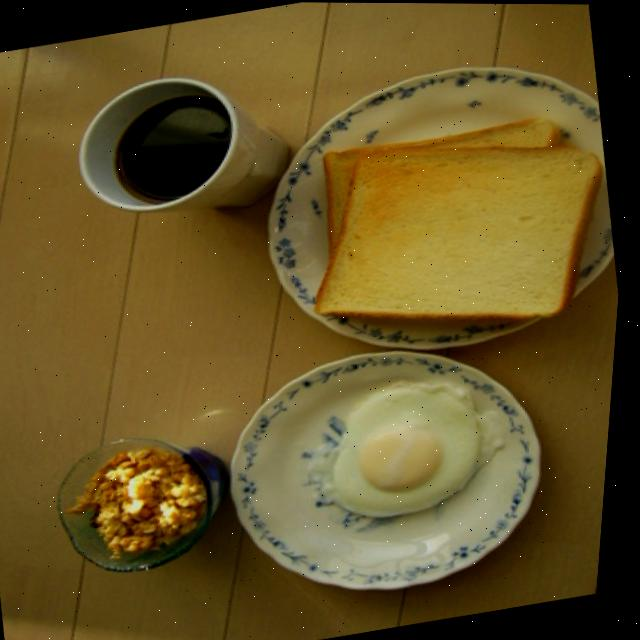面包点心: (262, 46, 637, 400)
